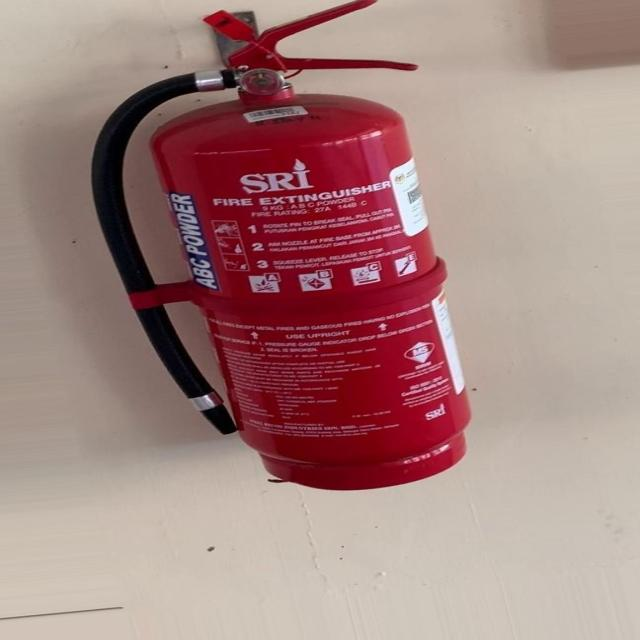fire_extinguisher: (76, 0, 483, 493)
